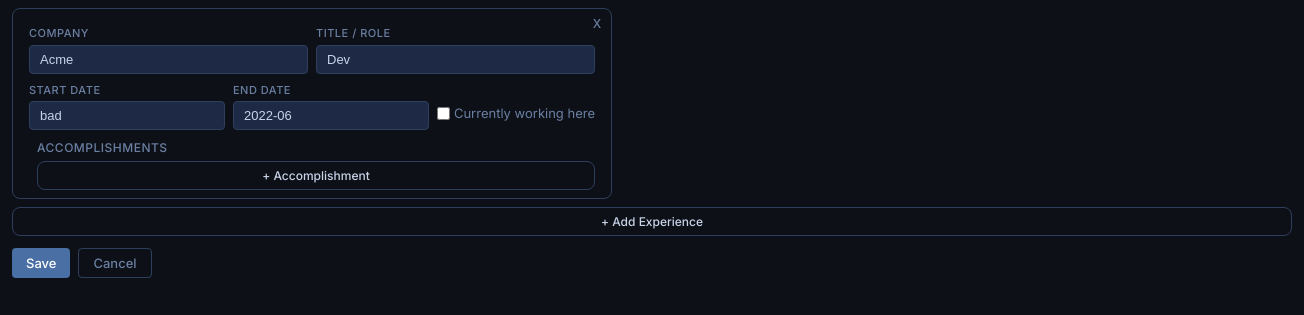
Test: SectionEditor › experience › validates date format on save
Click the button "Save".
click(41, 263)  # box [12, 248, 70, 278]
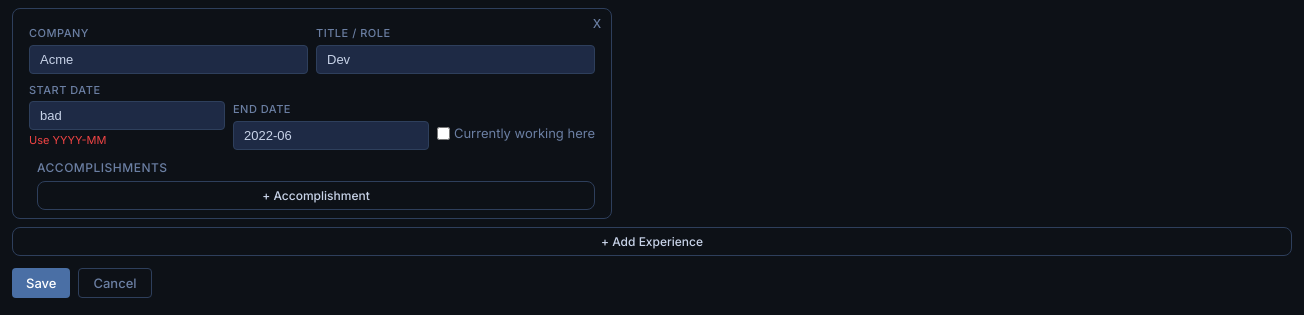
Check: the text "Use YYYY-MM" is shown, box [29, 133, 106, 147]
